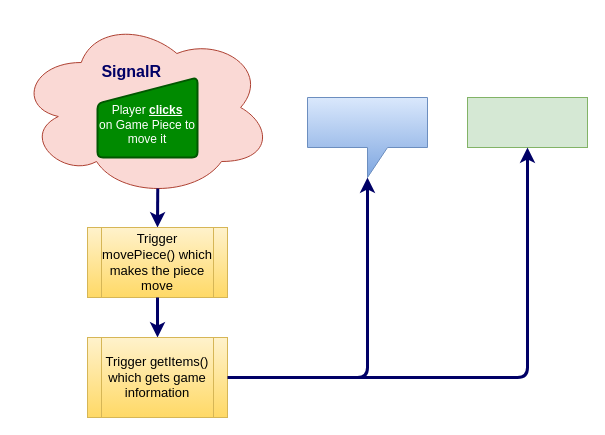
Image size: 605x435. Some labels were removed from this diagram. The shapes that lost their labels are listed below. From the top down, each one's centre as x and y in pixels, then its label:
At (367,137): "Print information about next player in all browsers".
At (527,122): "Set new Game Piece positions on Game Board".
